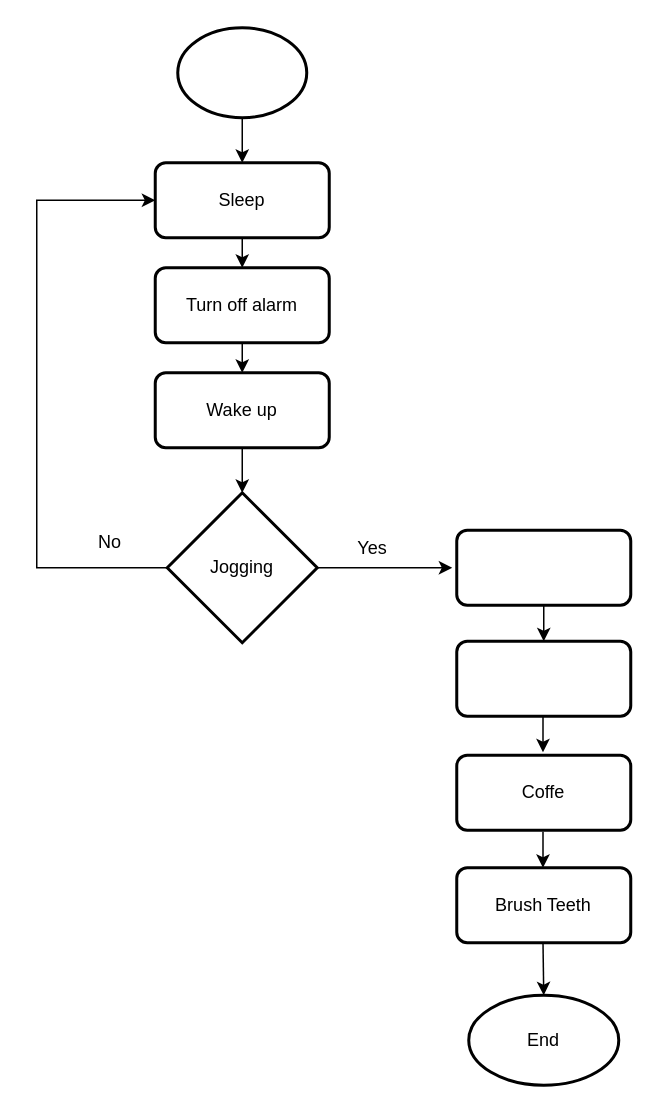
Image size: 659x1112. Some labels were removed from this diagram. Each missing label, with the centre of its shape:
Changing Clothes: the point at 543,678
Go to wash room: the point at 543,567
Start: the point at 242,72
